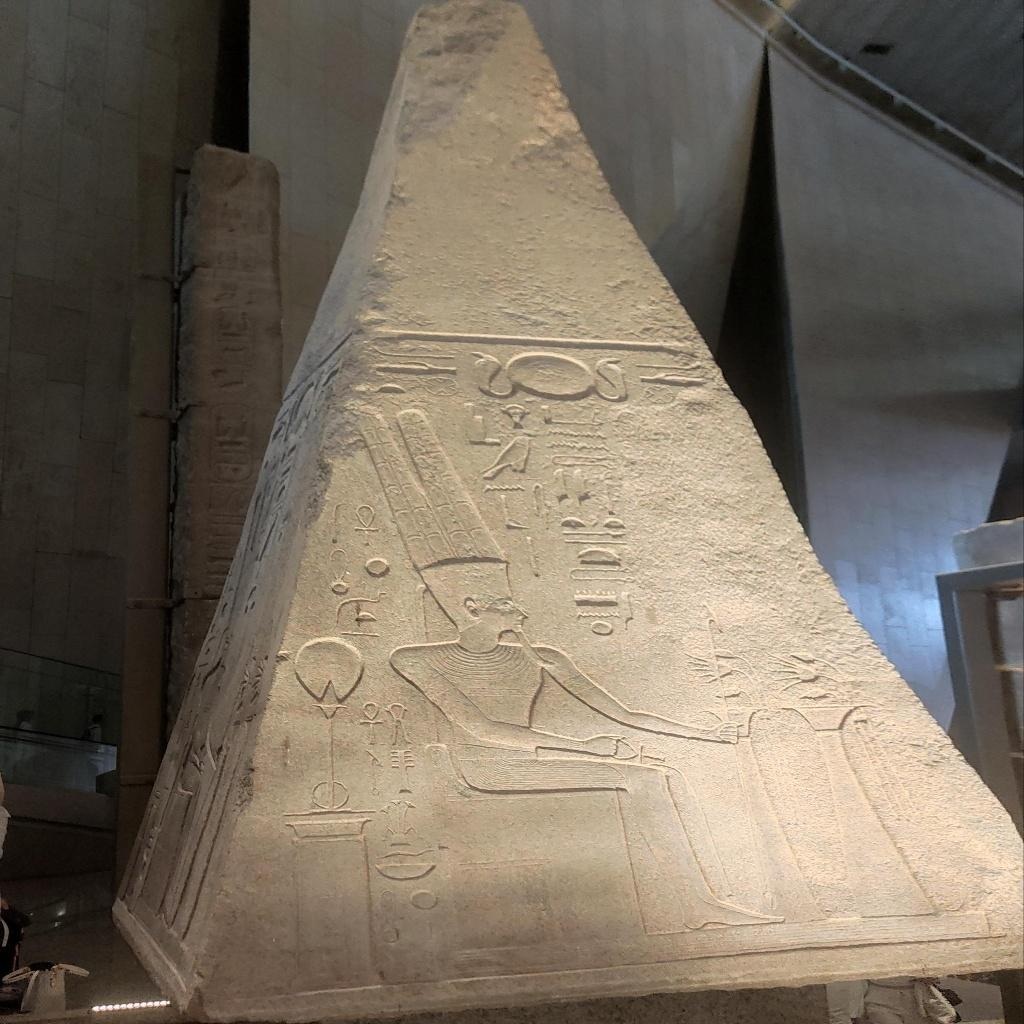Obelsik Tip of Hatshepsut: (104, 2, 1024, 1016)
